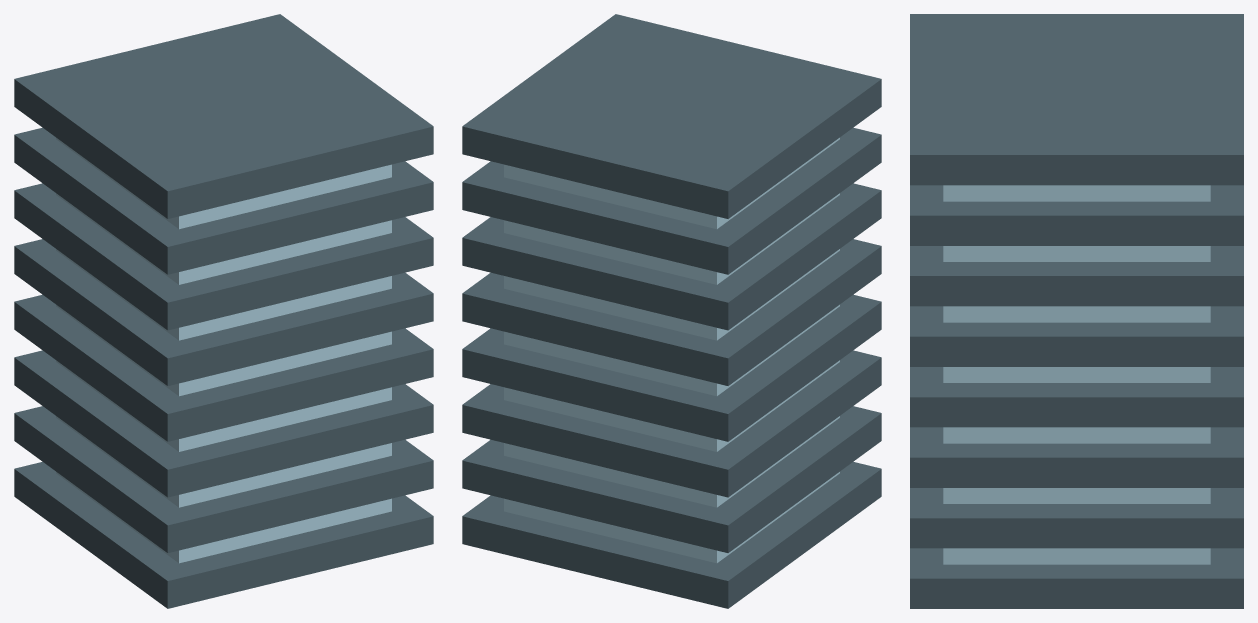
Rendered from building.dae.
3 views of the same model, side by side, from view 1: azimuth 30°, elevation 25°; view 2: azimuth 150°, elevation 25°; view 3: azimuth 270°, elevation 25° (orthographic). The views are drawn at different scales.
Parts seen in each view (by area): view 1: walls, windows; view 2: walls, windows; view 3: walls, windows.
Part boxes in pixels (bbox=[...]): walls: bbox=[14, 14, 433, 608]; windows: bbox=[56, 137, 391, 563]; walls: bbox=[462, 14, 881, 608]; windows: bbox=[504, 137, 839, 563]; walls: bbox=[910, 14, 1243, 608]; windows: bbox=[943, 185, 1210, 564].
Bounding box in the file's own units: 150 × 225 × 150.
